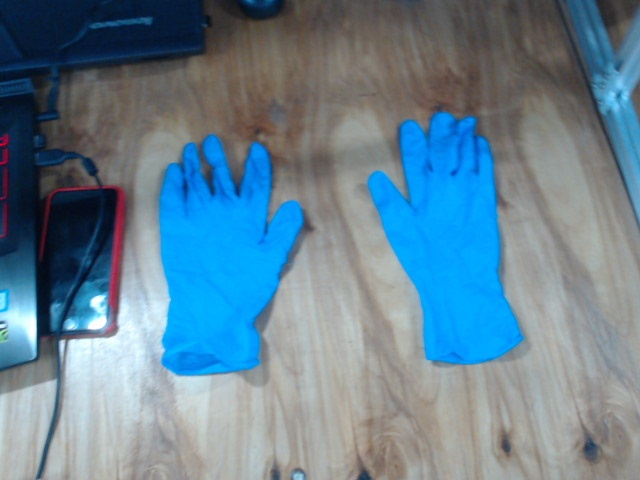medical_glove: (367, 111, 525, 364), (158, 134, 303, 376)
